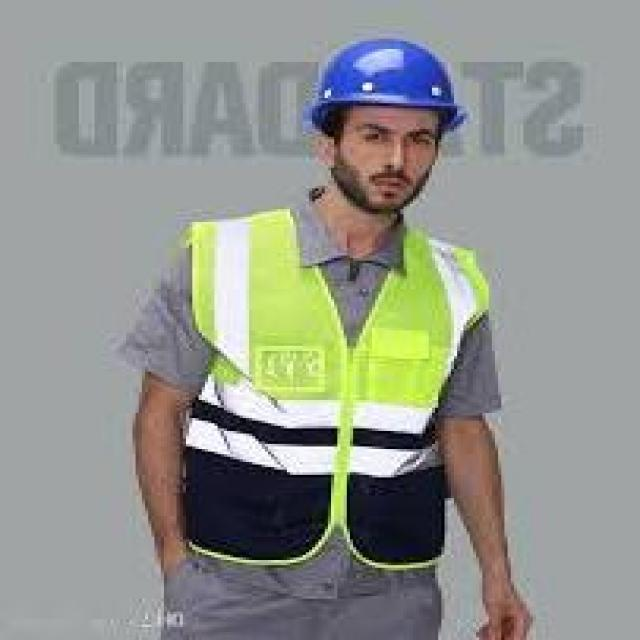Reflective-Jacket: (164, 206, 517, 469)
Safety-Helmet: (280, 28, 492, 142)
